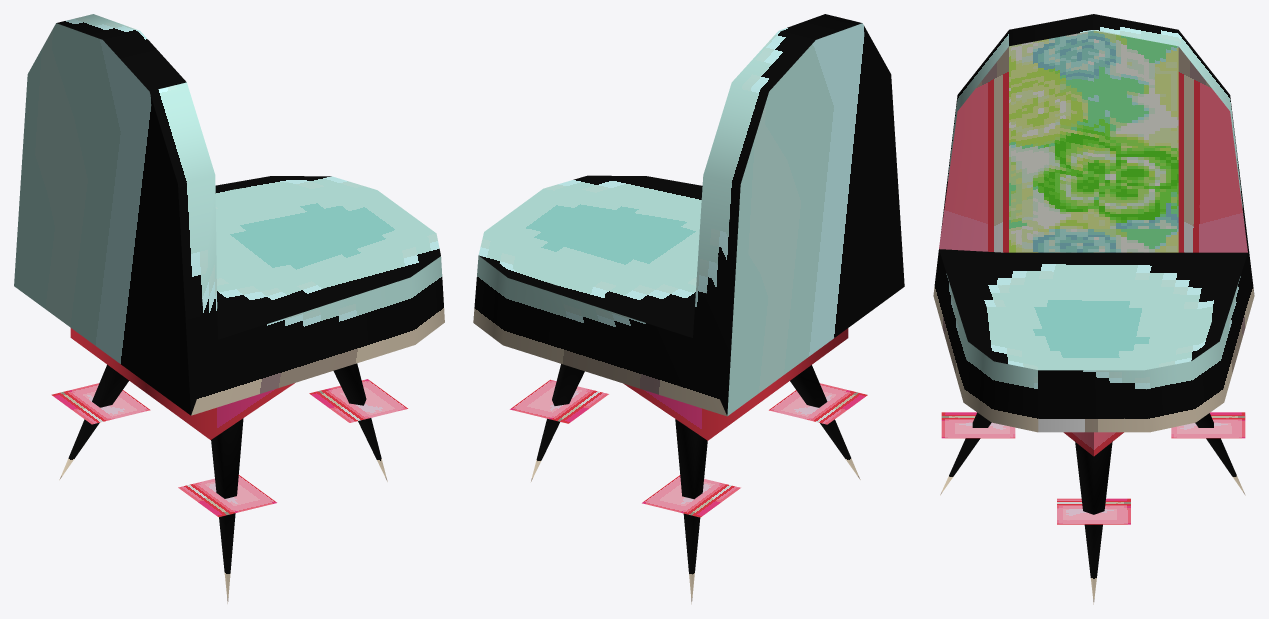
The picture shows the model from 3 angles, left to right: view 1: azimuth 30°, elevation 25°; view 2: azimuth 150°, elevation 25°; view 3: azimuth 270°, elevation 25°; orthographic projection. The views are drawn at different scales.
Parts seen in each view (by area): view 1: 3566kg_00_isu; view 2: 3566kg_00_isu; view 3: 3566kg_00_isu.
Boxes of the visible parts, x1,y1,x2,y2 form: 3566kg_00_isu: (14, 14, 444, 603); 3566kg_00_isu: (473, 14, 904, 604); 3566kg_00_isu: (933, 14, 1254, 604).
Size of the model in its own units: 0.7715 by 1.23 by 0.7673.
2 materials, 2 textured.
